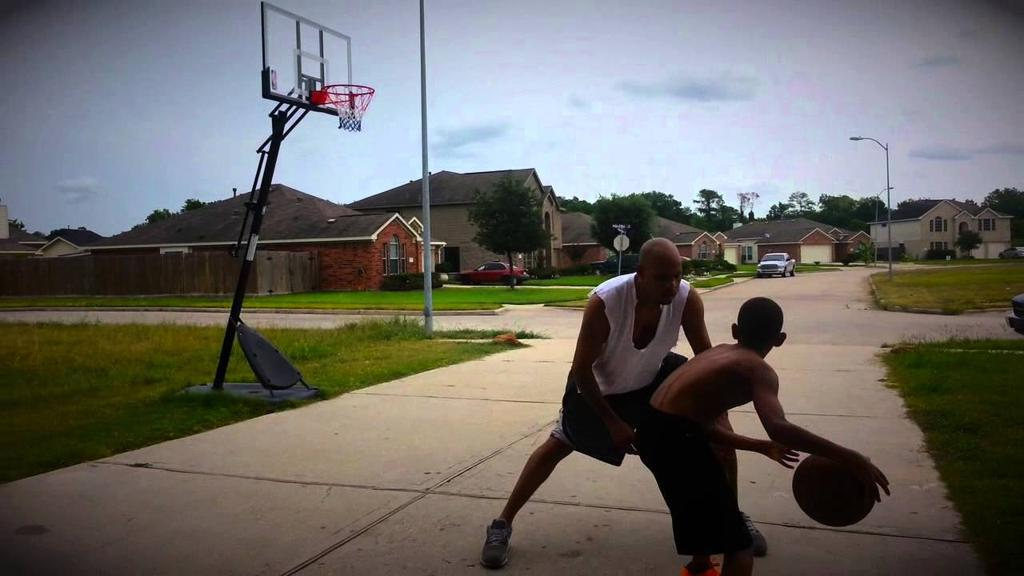face: (646, 257, 682, 305)
